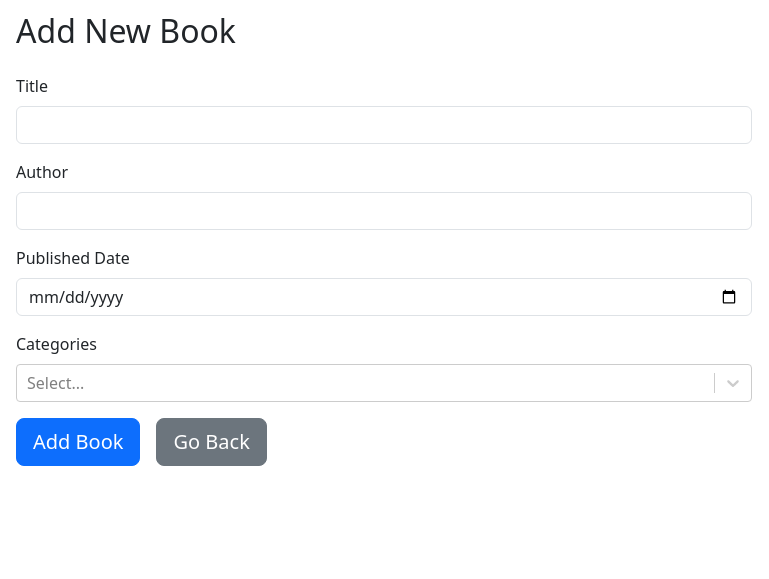
Test: AddBook Component › validates form fields
What coordinates should you click on to do the following:
click the button "Add Book"
I would click on:
 (78, 442)
Its box is [16,418,140,466].
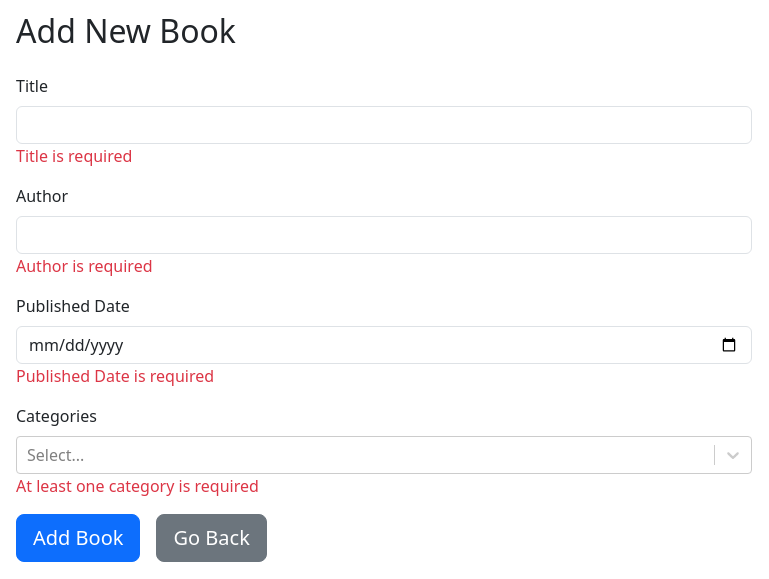
Now the text "Title is required" is shown, box [16,145,132,167]
Now the text "Author is required" is shown, box [16,255,152,277]
Now the text "Published Date is required" is shown, box [16,365,214,387]
